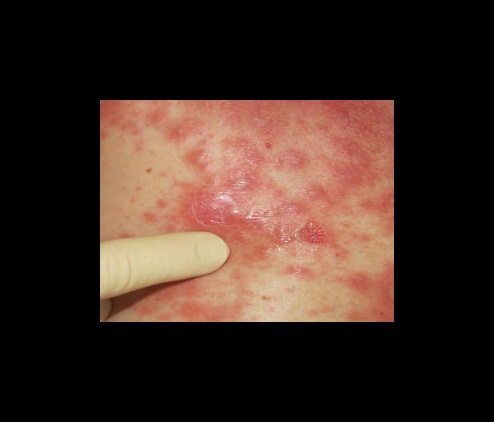SJS-TEN: (99, 97, 397, 322)
